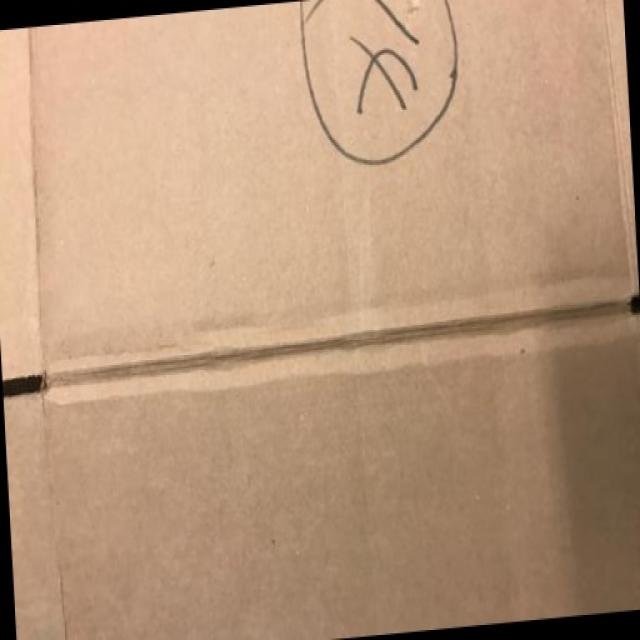carton: (220, 18, 530, 463)
